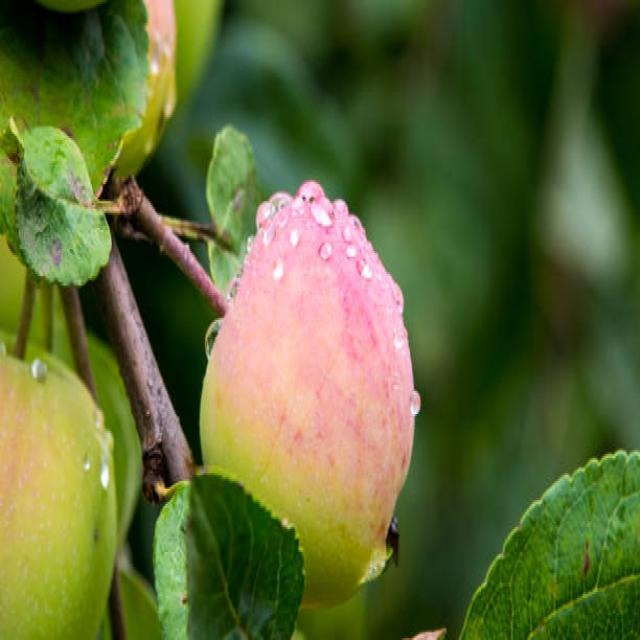Unripe: (200, 193, 415, 611)
